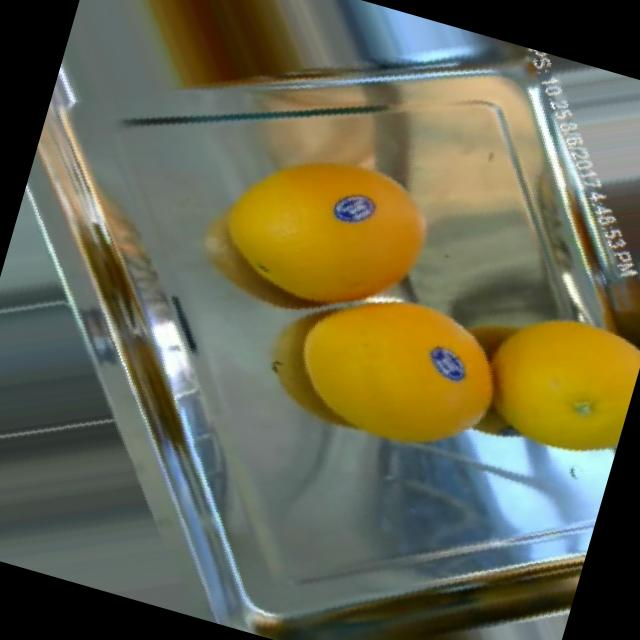Fruit: (164, 124, 392, 347), (425, 279, 640, 486), (552, 106, 640, 292)
